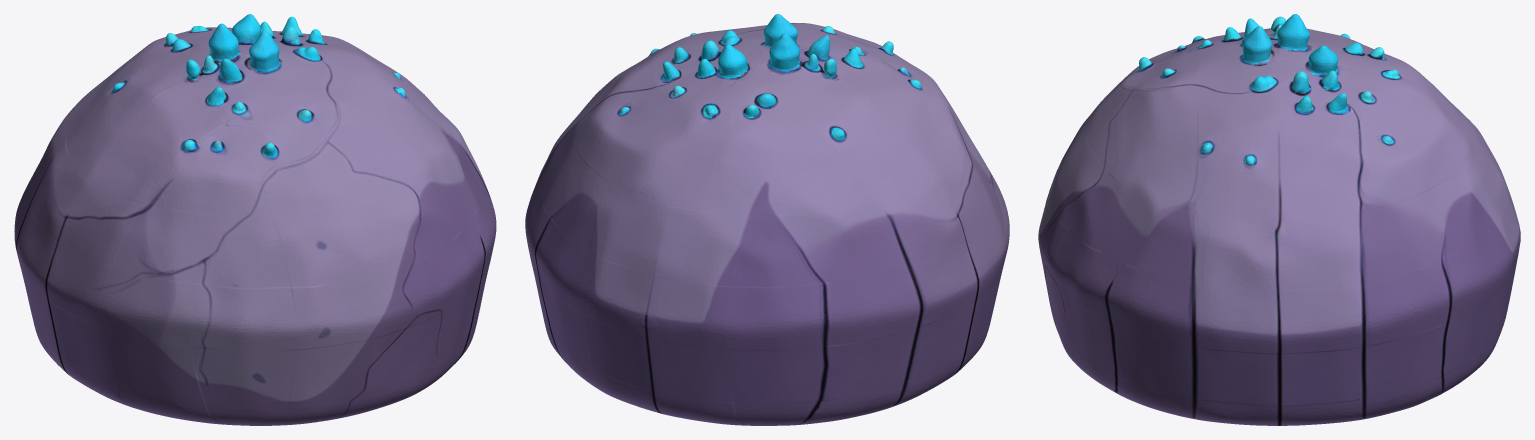
The model's file is hunyuan_purple_boulder_textured.glb.
The picture shows the model from 3 angles, left to right: view 1: azimuth 30°, elevation 25°; view 2: azimuth 150°, elevation 25°; view 3: azimuth 270°, elevation 25°; orthographic projection.
Visible parts, largest first — view 1: tmpjo956vbf.ply; view 2: tmpjo956vbf.ply; view 3: tmpjo956vbf.ply.
Boxes of the visible parts, x1,y1,x2,y2 form: tmpjo956vbf.ply: [14, 14, 496, 425]; tmpjo956vbf.ply: [525, 14, 1009, 425]; tmpjo956vbf.ply: [1038, 14, 1520, 425].
Bounding box in the file's own units: 2 × 1.55 × 1.99.
1 material, 1 textured.
